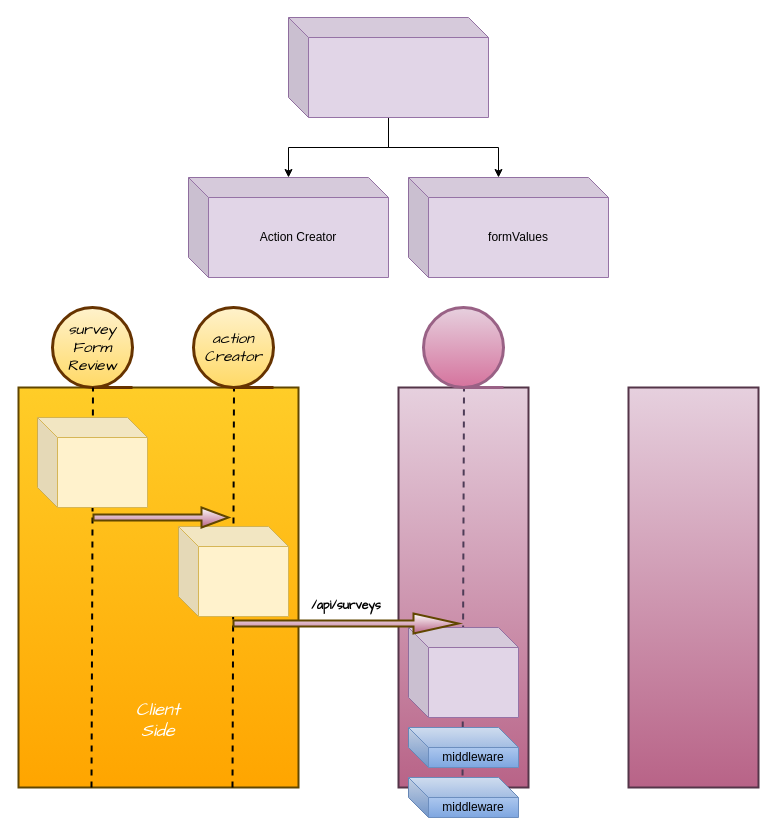
Image size: 776x835. Some labels were removed from this diagram. The shapes that lost their labels are listed below. From the top down, each one's box as (x1, y1, x2, y2) in pixels, then its label:
(288, 16, 488, 118): mapStateToProps
(422, 306, 504, 388): route Handler
(397, 386, 529, 788): Server Side
(627, 386, 759, 788): Send Grid
